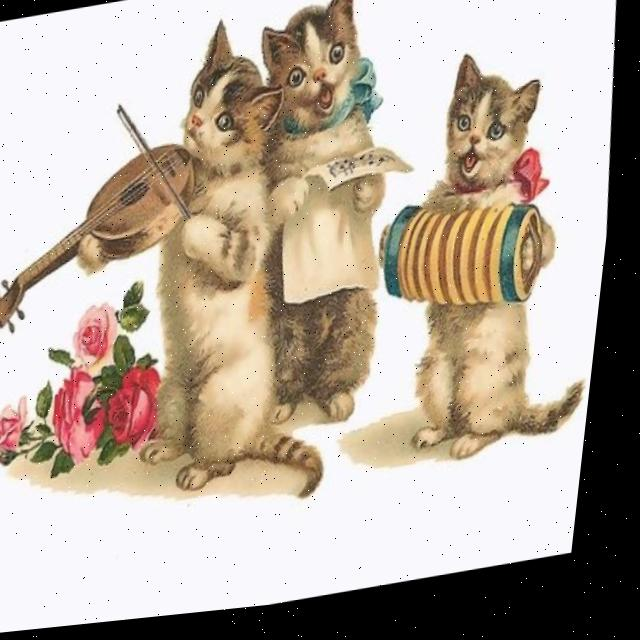Cats: (118, 3, 377, 534), (394, 40, 630, 484), (227, 0, 424, 440)
